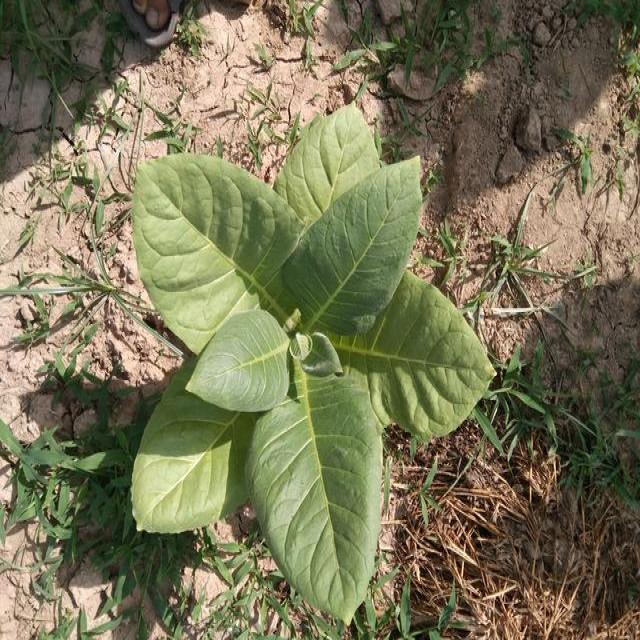crop: (129, 104, 498, 628)
